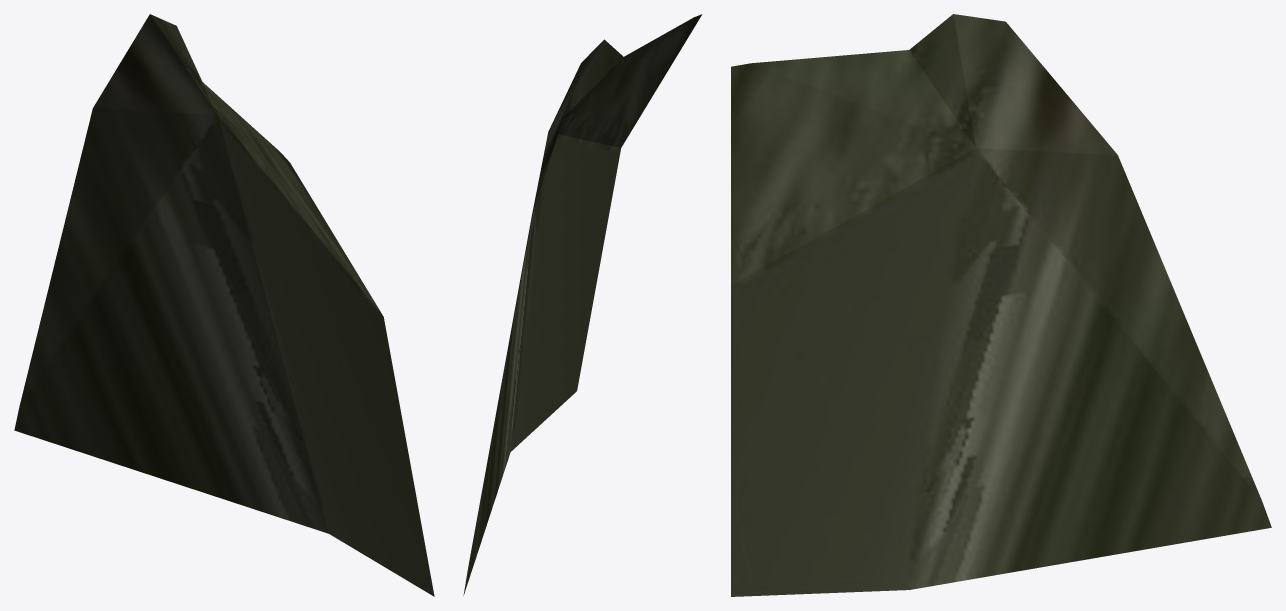
The picture shows the model from 3 angles, left to right: view 1: azimuth 30°, elevation 25°; view 2: azimuth 150°, elevation 25°; view 3: azimuth 270°, elevation 25°; orthographic projection. The views are drawn at different scales.
Bounding box in the file's own units: 0.5006 × 1.73 × 1.65.
Materials: 1 (1 with a texture image).
